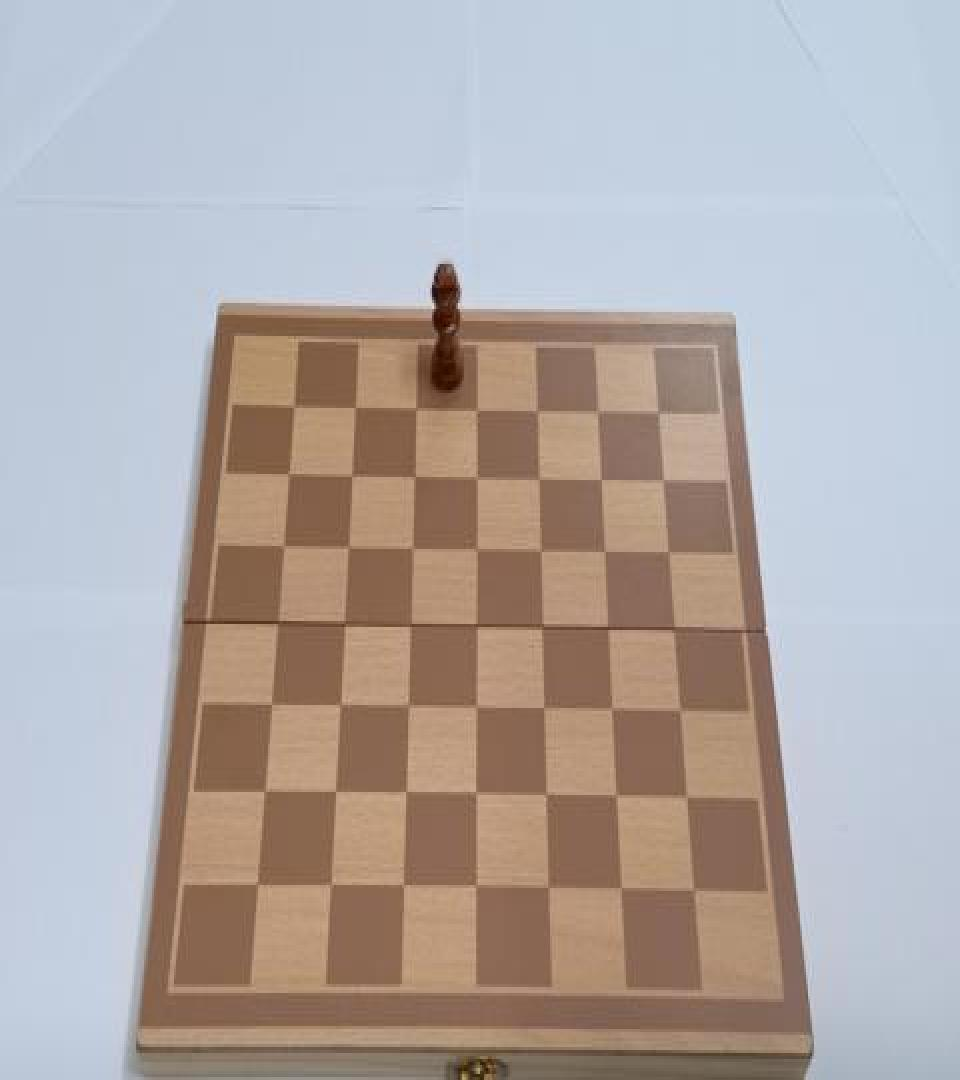xcorner: (344, 460, 362, 488), (401, 694, 419, 722), (469, 394, 487, 422), (594, 466, 612, 494), (287, 390, 305, 417), (281, 459, 299, 486), (276, 532, 294, 559), (270, 609, 288, 636), (257, 780, 275, 807), (250, 874, 268, 901), (341, 534, 359, 561), (337, 610, 355, 637), (333, 693, 351, 720), (324, 876, 342, 903), (408, 393, 426, 420), (407, 462, 425, 489), (403, 612, 421, 639), (399, 783, 417, 810), (397, 876, 415, 903), (469, 537, 487, 564), (470, 696, 488, 723), (470, 785, 488, 812), (530, 396, 548, 423), (532, 465, 550, 492), (534, 538, 552, 565), (536, 615, 554, 642), (540, 786, 558, 813), (543, 879, 561, 906), (590, 397, 608, 424), (598, 540, 616, 567), (602, 617, 620, 644), (606, 699, 624, 726), (616, 880, 634, 907), (651, 399, 669, 426), (656, 468, 674, 495), (668, 618, 686, 645), (674, 700, 692, 727), (681, 789, 699, 816), (688, 882, 706, 909), (264, 692, 282, 718), (348, 392, 366, 418), (328, 782, 346, 808), (405, 536, 423, 562), (469, 464, 487, 490), (470, 614, 488, 640), (470, 878, 488, 904), (538, 698, 556, 724), (611, 788, 629, 814), (662, 542, 680, 568)
